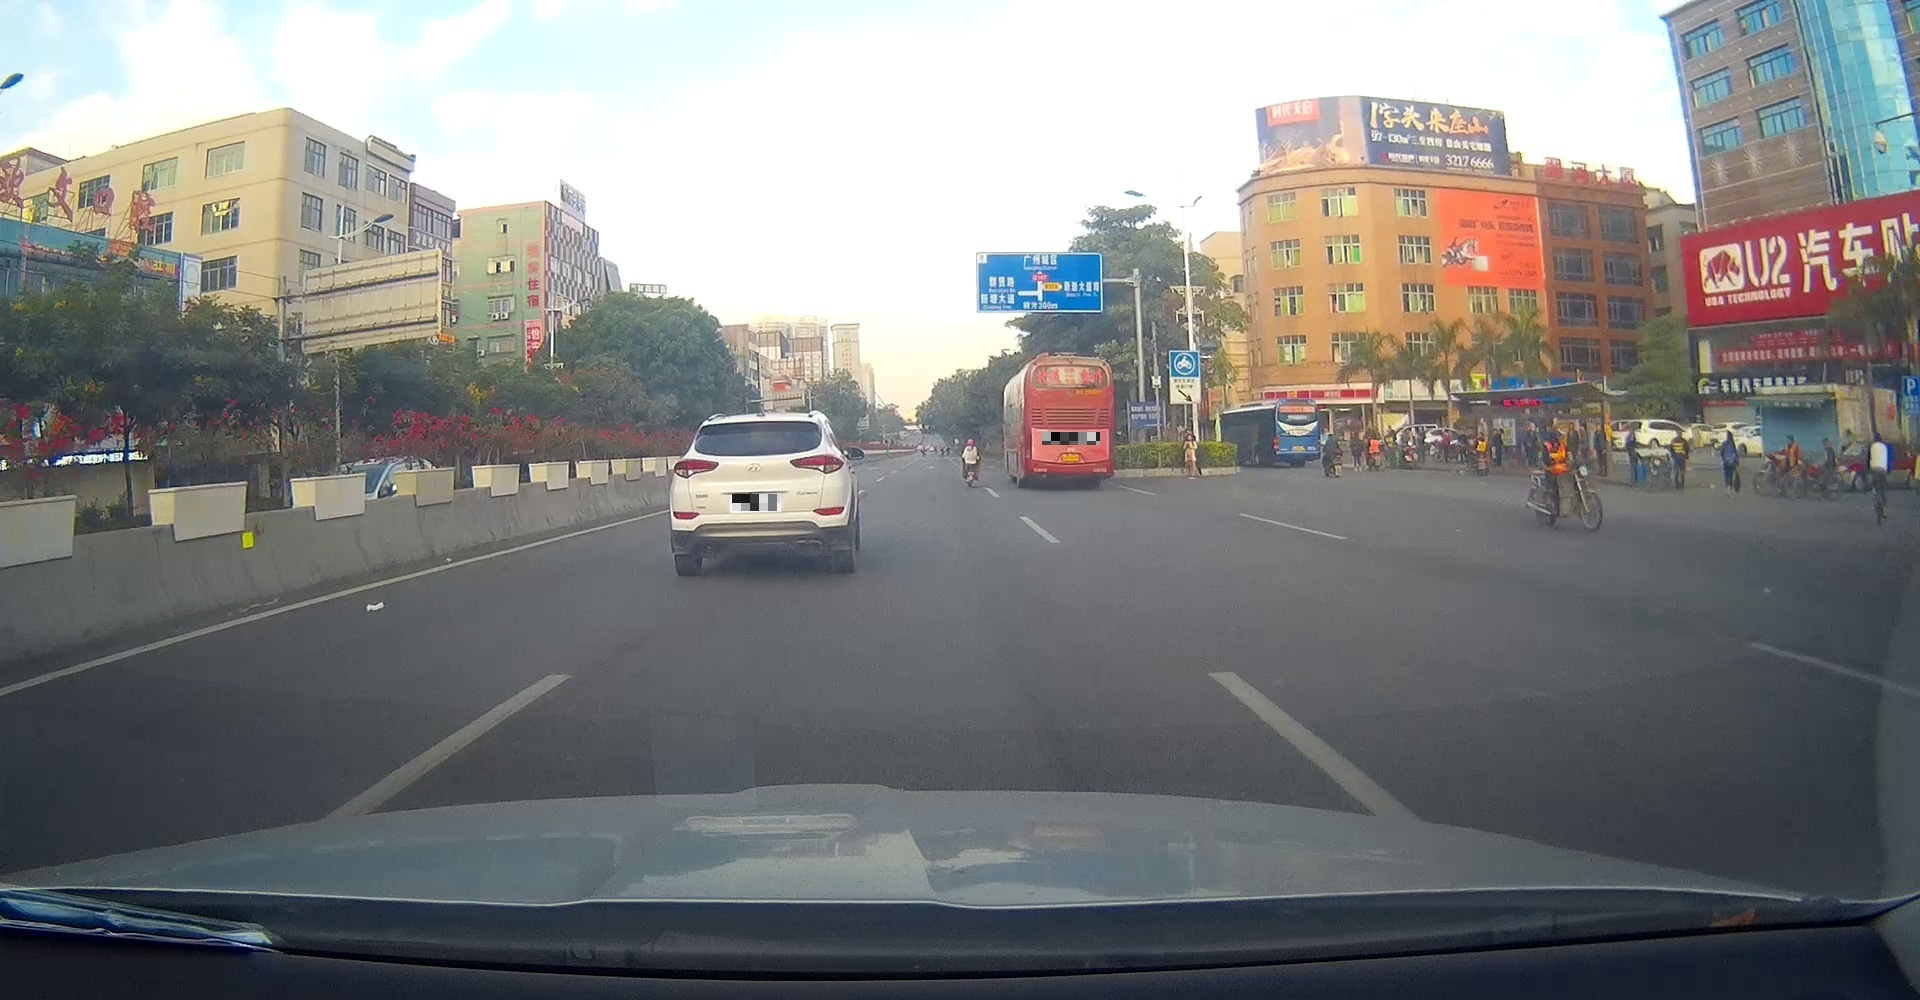L_light: (673, 459, 719, 478)
R_light: (789, 454, 844, 475)
T_light: (750, 423, 775, 426)
day-no: (668, 409, 851, 574)
plate_1: (731, 494, 780, 511)
plate_2: (1043, 431, 1100, 445)
